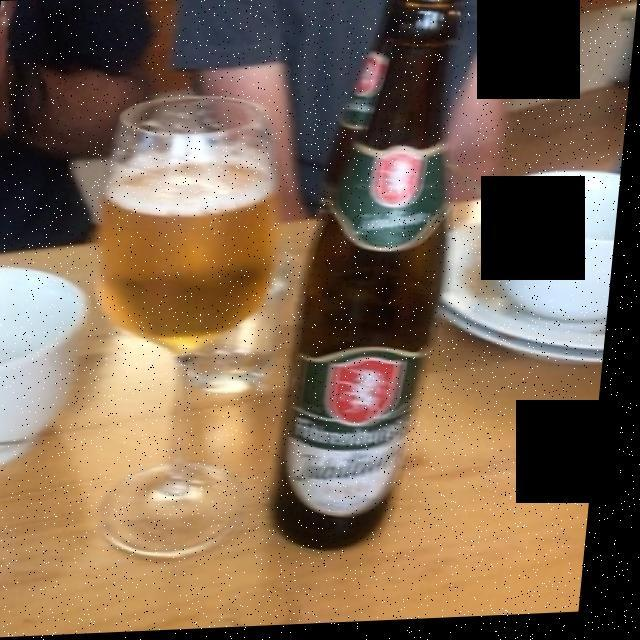beer: (104, 165, 278, 347)
